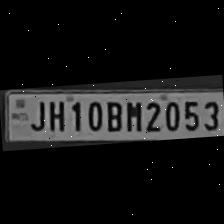0: (82, 96, 104, 131), (160, 96, 180, 132)
1: (65, 96, 83, 132)
2: (142, 97, 162, 132)
3: (199, 96, 220, 130)
5: (178, 95, 200, 130)
B: (102, 96, 122, 132)
H: (42, 96, 68, 132)
J: (26, 97, 46, 132)
M: (120, 96, 142, 132)
